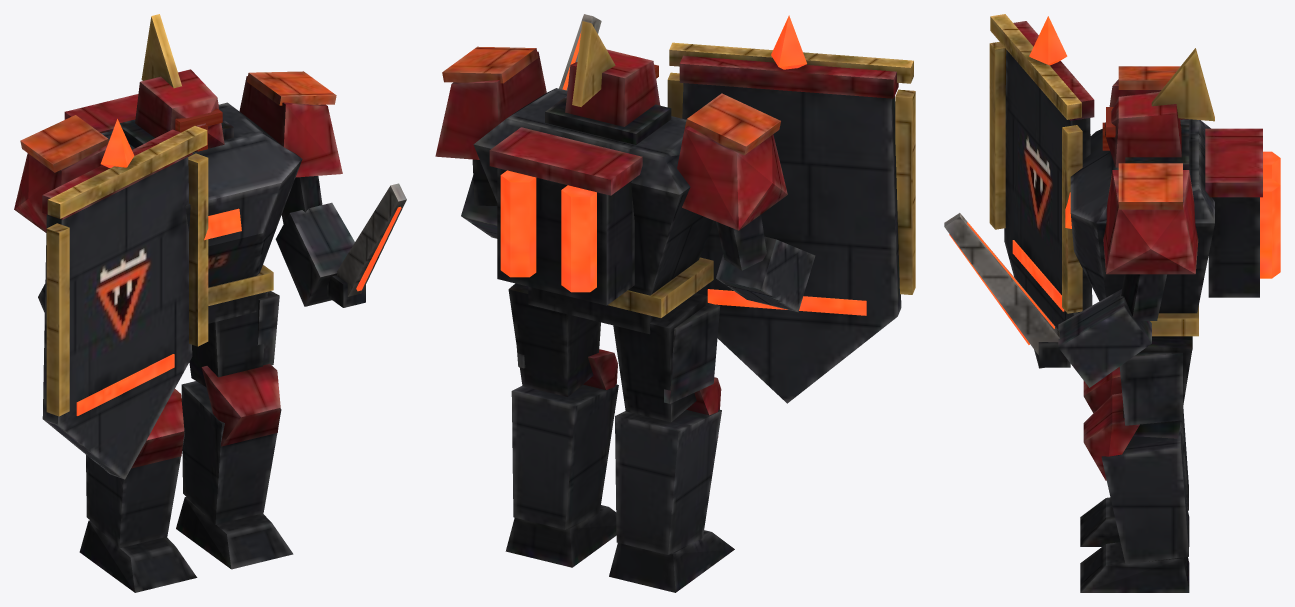
Rendered from u_warden3_e.glb.
3 renders of one model, left to right at view 1: azimuth 30°, elevation 25°; view 2: azimuth 150°, elevation 25°; view 3: azimuth 270°, elevation 25°, orthographic. The views are drawn at different scales.
Parts seen in each view (by area): view 1: u_warden3_e; view 2: u_warden3_e; view 3: u_warden3_e.
Boxes of the visible parts, x1,y1,x2,y2 form: u_warden3_e: [14, 14, 406, 592]; u_warden3_e: [435, 14, 915, 592]; u_warden3_e: [944, 14, 1280, 592].
Bounding box in the file's own units: 1.52 × 2.1 × 1.27.
1 material, 1 textured.
